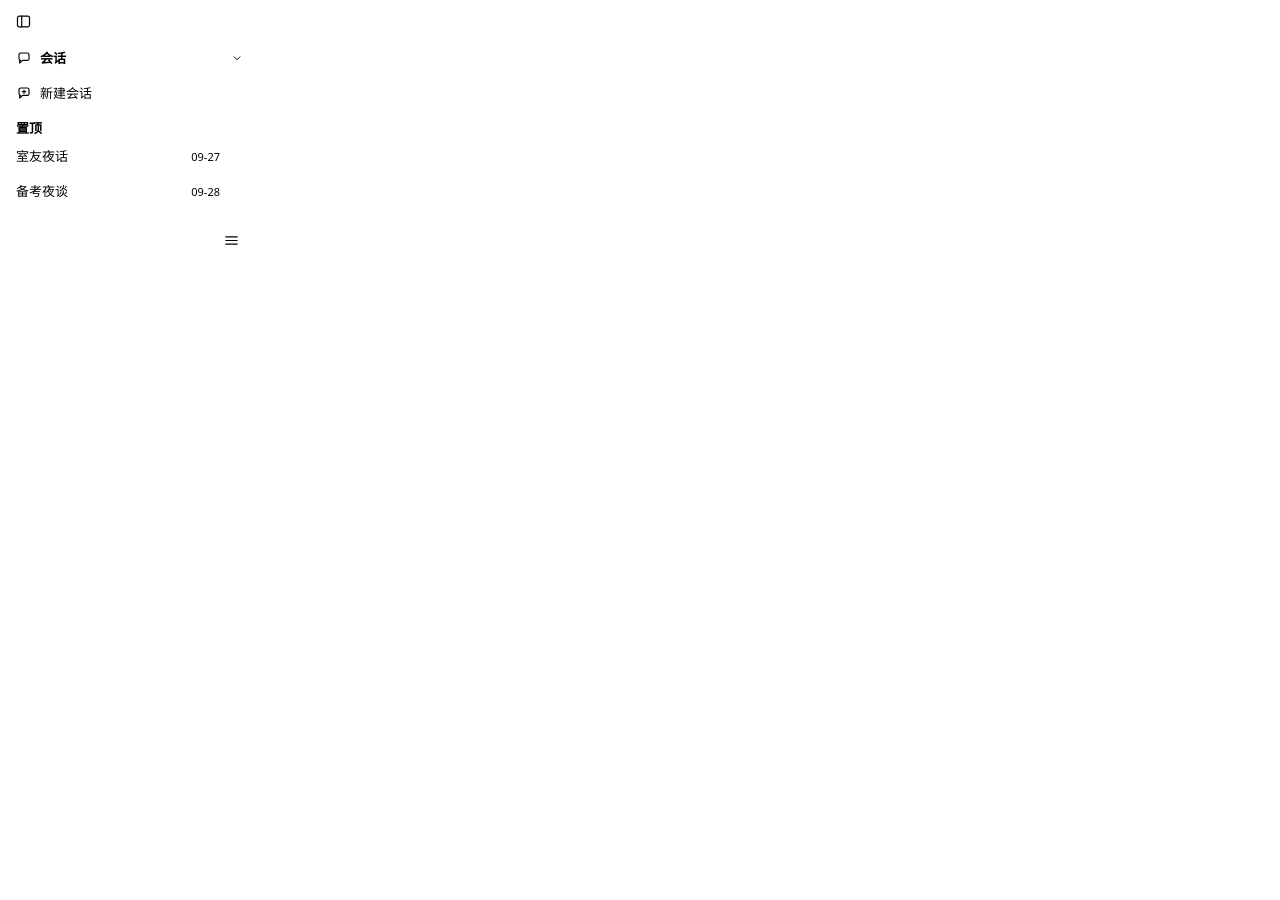
Test: Sidebar (手风琴侧栏 v2) › 遮罩点击关闭菜单且不上抛任何动作
Right-click the list item "备考夜谈 09-28": (118, 192) x1=16 y1=181 x2=220 y2=202
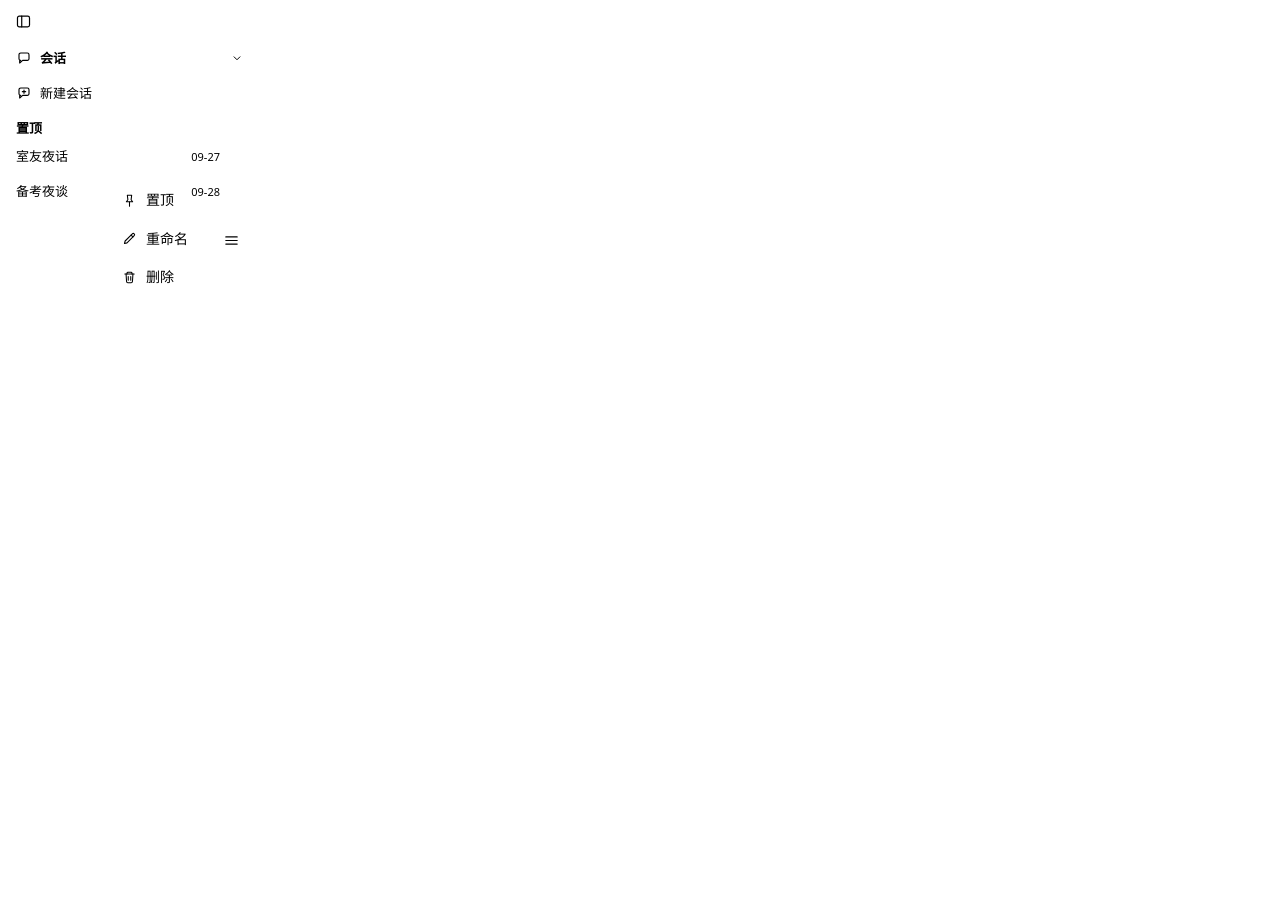
Click the element with class "session-menu-mask": click(640, 450) x1=0 y1=0 x2=1279 y2=899
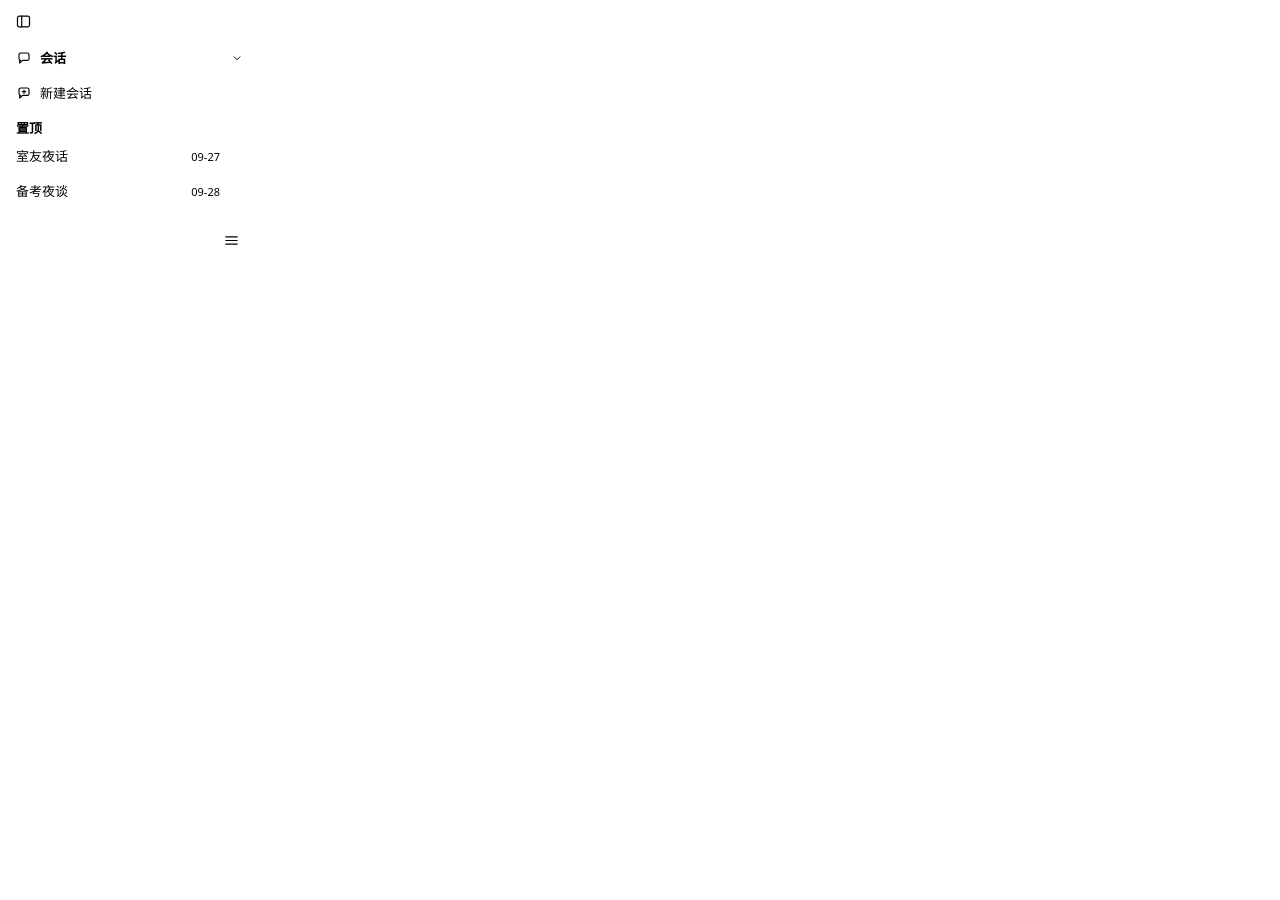
Expected: the menu is gone
